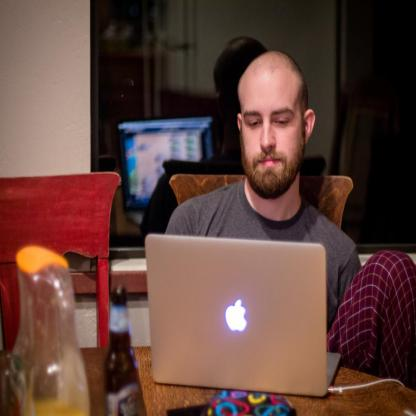board: (144, 235, 342, 398), (107, 286, 141, 416)
